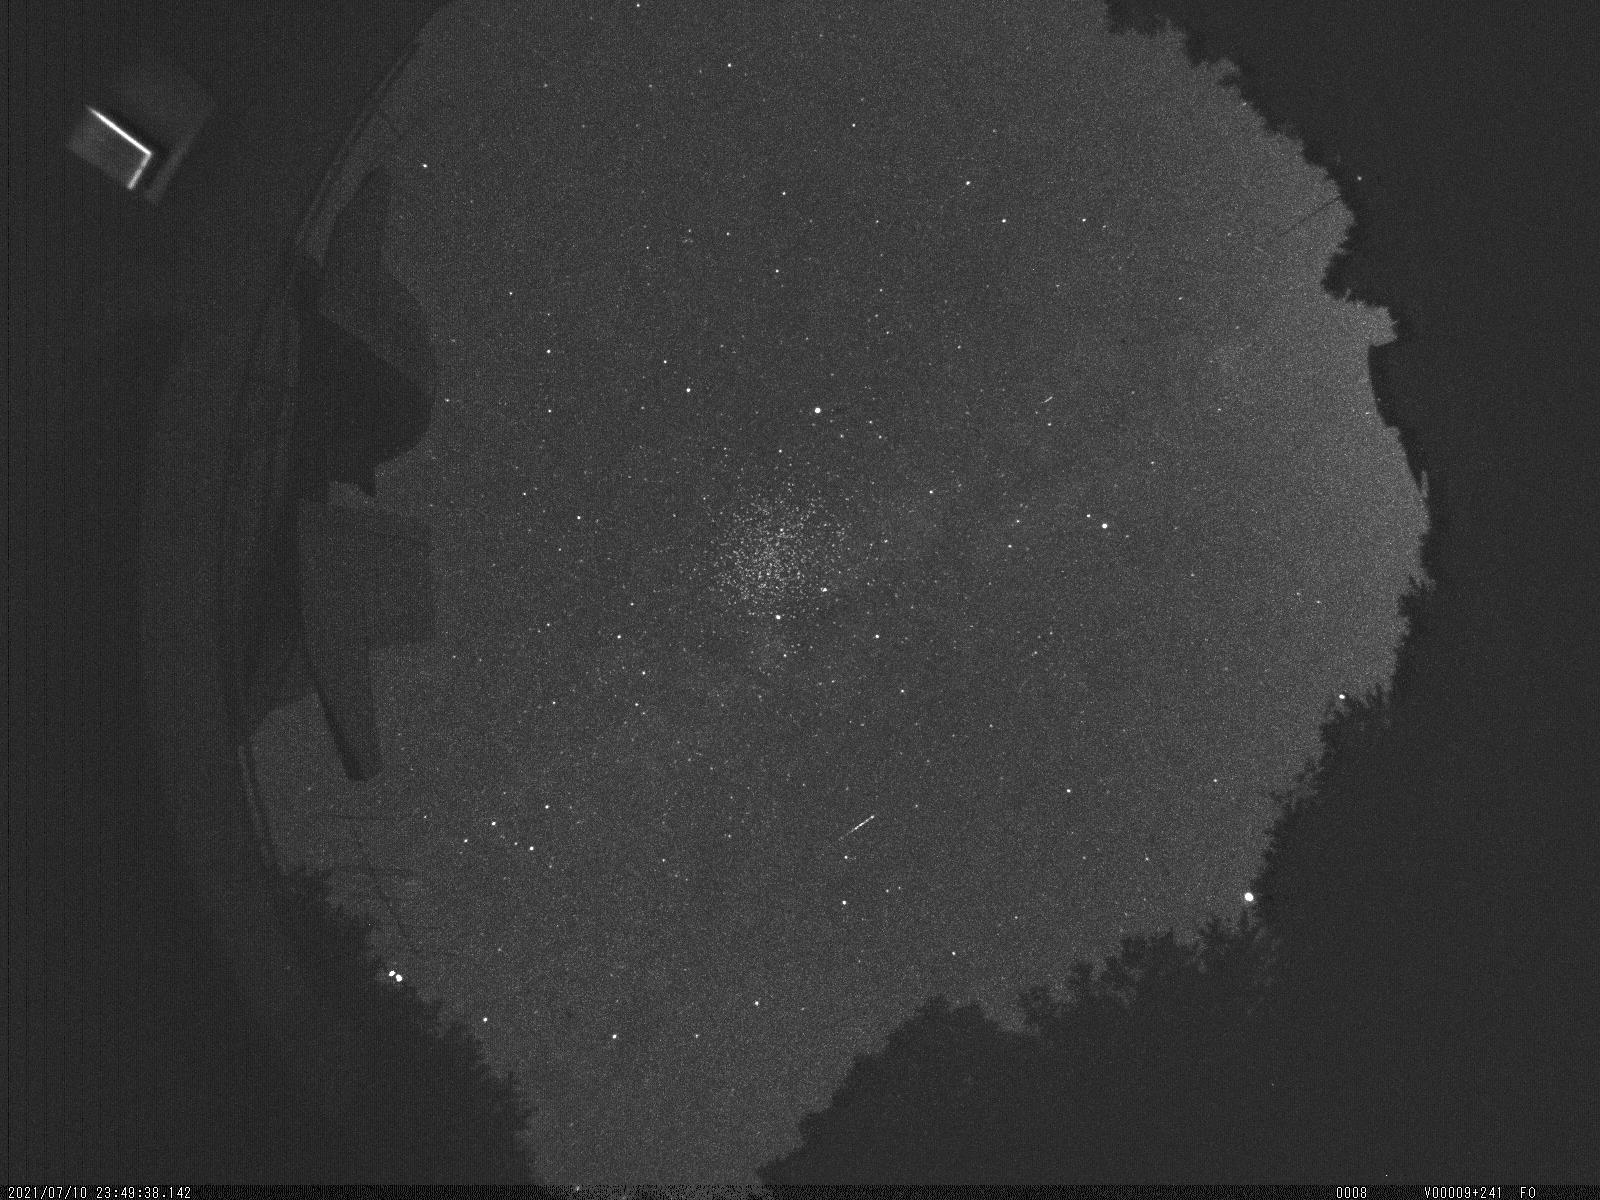Meteor: (834, 802, 888, 848)
